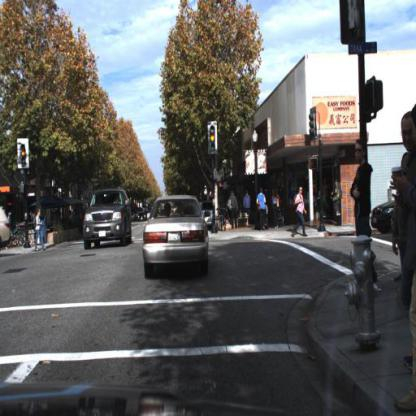car: (143, 195, 212, 283), (82, 188, 133, 250), (370, 193, 408, 242)
pedestrian: (392, 108, 416, 412), (351, 135, 376, 243), (290, 184, 308, 239), (331, 176, 345, 227), (34, 206, 48, 256), (256, 189, 268, 230), (228, 191, 240, 229), (272, 188, 281, 231), (243, 191, 253, 225)
trafficLight-Yellow: (16, 138, 31, 172), (209, 122, 219, 154)
